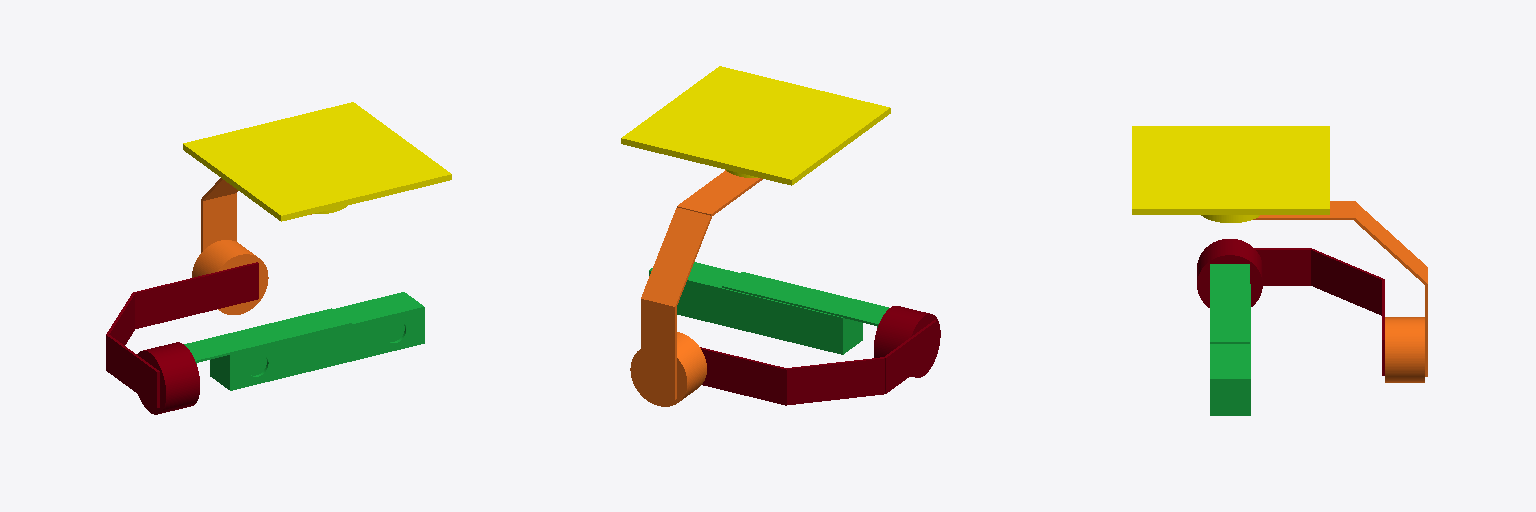
Rendered from Gimbal_complete.obj.
3 views of the same model, side by side, from view 1: azimuth 30°, elevation 25°; view 2: azimuth 150°, elevation 25°; view 3: azimuth 270°, elevation 25° (orthographic).
Parts seen in each view (by area): view 1: Object.1, Object.13, Object.7, Object.12, Object.8, Object.4, Object.9, Object.5, Object.10; view 2: Object.1, Object.13, Object.10, Object.6, Object.5, Object.12, Object.7, Object.4, Object.8, Object.9, Object.3; view 3: Object.1, Object.12, Object.13, Object.10, Object.4, Object.8, Object.9, Object.6, Object.3.
Boxes of the visible parts, x1,y1,x2,y2 form: Object.1: [183, 102, 451, 221]; Object.13: [210, 292, 424, 390]; Object.7: [133, 262, 258, 328]; Object.12: [184, 308, 351, 362]; Object.8: [137, 342, 199, 414]; Object.4: [192, 240, 268, 314]; Object.9: [106, 334, 159, 407]; Object.5: [201, 193, 236, 252]; Object.10: [107, 293, 134, 345]; Object.1: [621, 66, 890, 185]; Object.13: [649, 262, 862, 354]; Object.10: [785, 357, 884, 404]; Object.6: [641, 208, 711, 306]; Object.5: [641, 299, 676, 399]; Object.12: [722, 272, 888, 325]; Object.7: [700, 347, 787, 405]; Object.4: [630, 332, 706, 406]; Object.8: [874, 306, 940, 377]; Object.9: [883, 320, 936, 393]; Object.3: [677, 170, 762, 216]; Object.1: [1132, 126, 1329, 214]; Object.12: [1210, 266, 1249, 343]; Object.13: [1210, 284, 1250, 415]; Object.10: [1311, 249, 1384, 315]; Object.4: [1385, 317, 1424, 382]; Object.8: [1197, 239, 1262, 307]; Object.9: [1254, 248, 1311, 285]; Object.6: [1353, 202, 1427, 285]; Object.3: [1253, 201, 1355, 219].
Bounding box in the file's own units: 235 × 178 × 225.